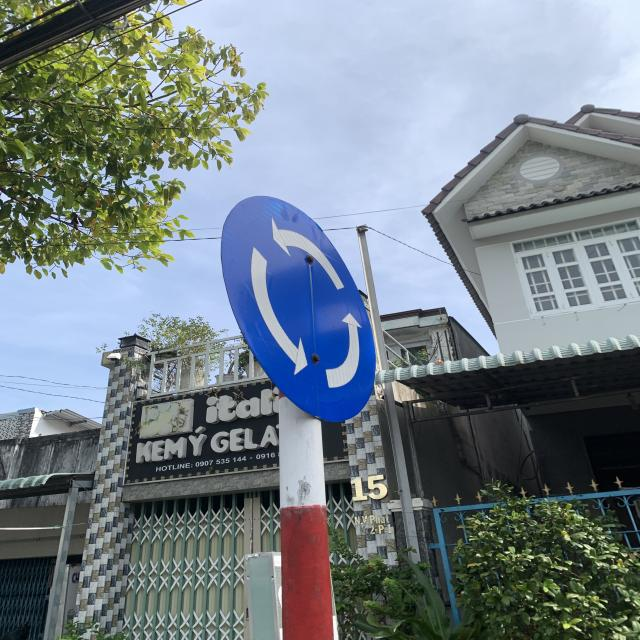Xe_Bus: (219, 196, 377, 420)
